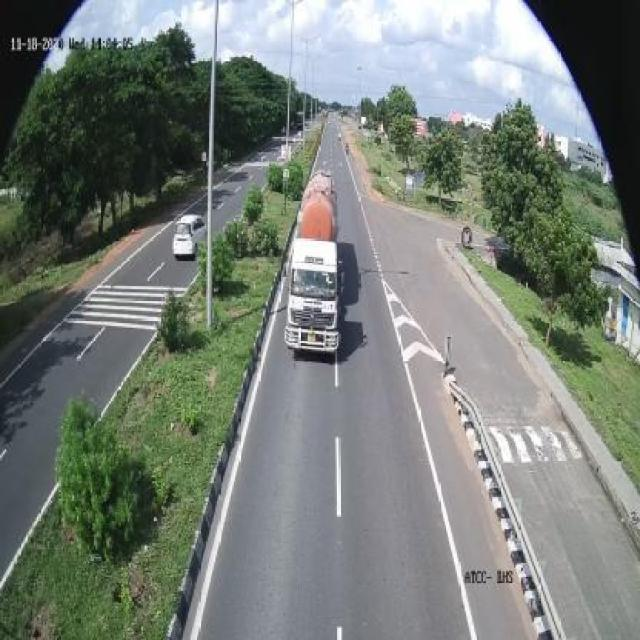car: (174, 215, 201, 263)
